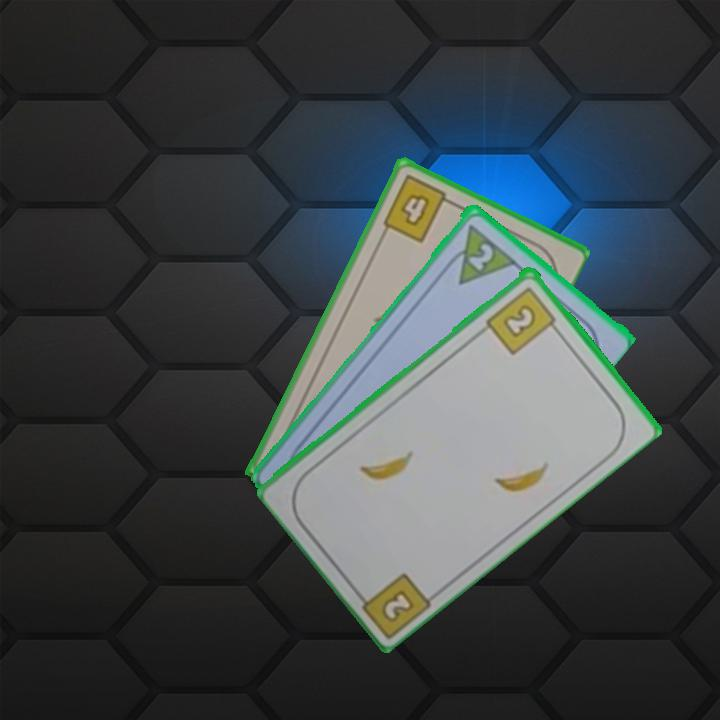2b: (482, 282, 562, 357), (377, 585, 418, 625)
2p: (439, 219, 517, 287)
4b: (379, 171, 457, 246)
